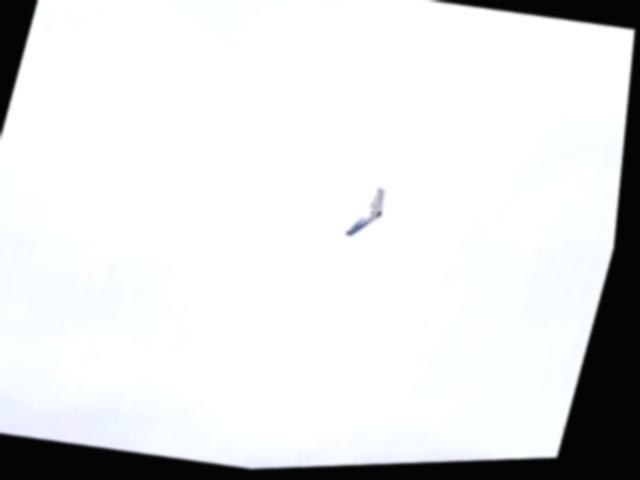flying wing: (345, 182, 397, 247)
